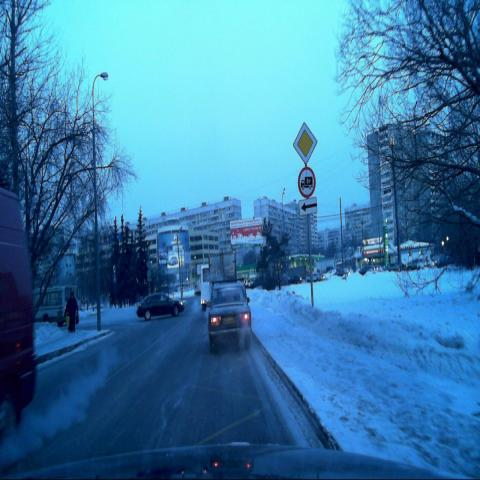3_4: (297, 168, 316, 198)
8_3_2: (299, 199, 318, 216)
